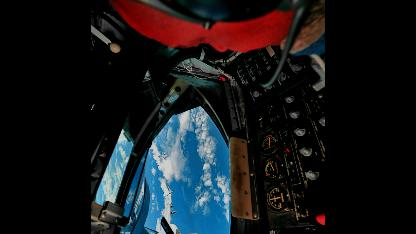F15: (132, 188, 206, 231)
